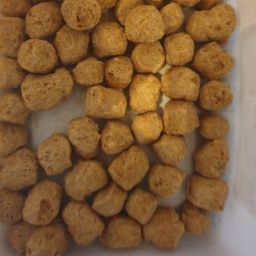Glycine max(soyabean): (3, 3, 239, 255)
